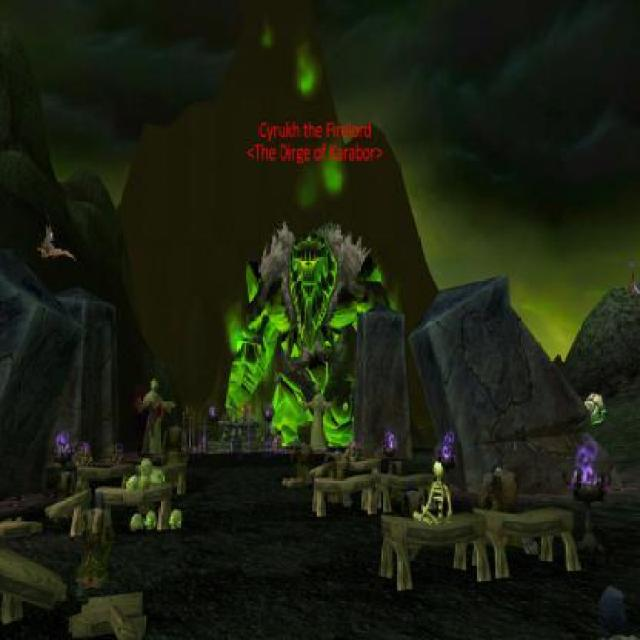Person: (133, 376, 185, 453)
